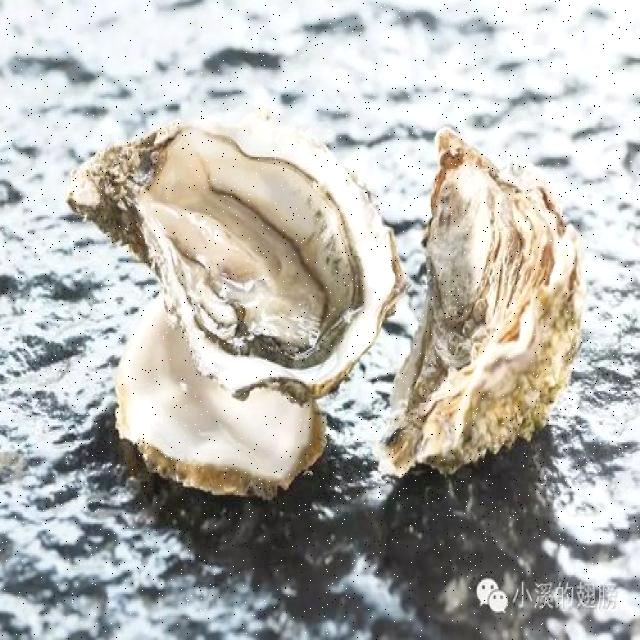Oyster-Closed: (370, 129, 586, 481)
Oyster-Open: (64, 109, 410, 398), (117, 290, 329, 500)
